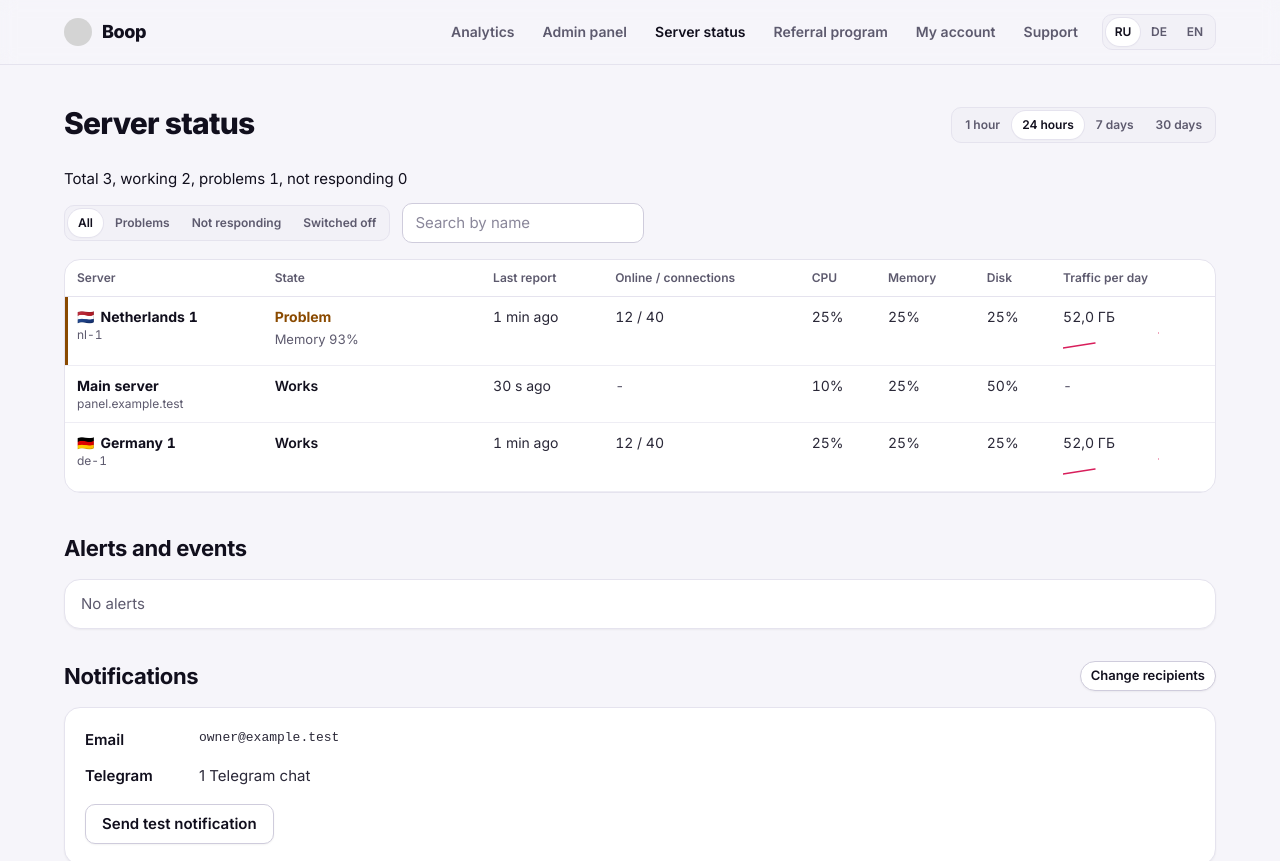
#/status › filters by state and searches by name
Click the button "Problems": x=142, y=222 [105,208,180,236]
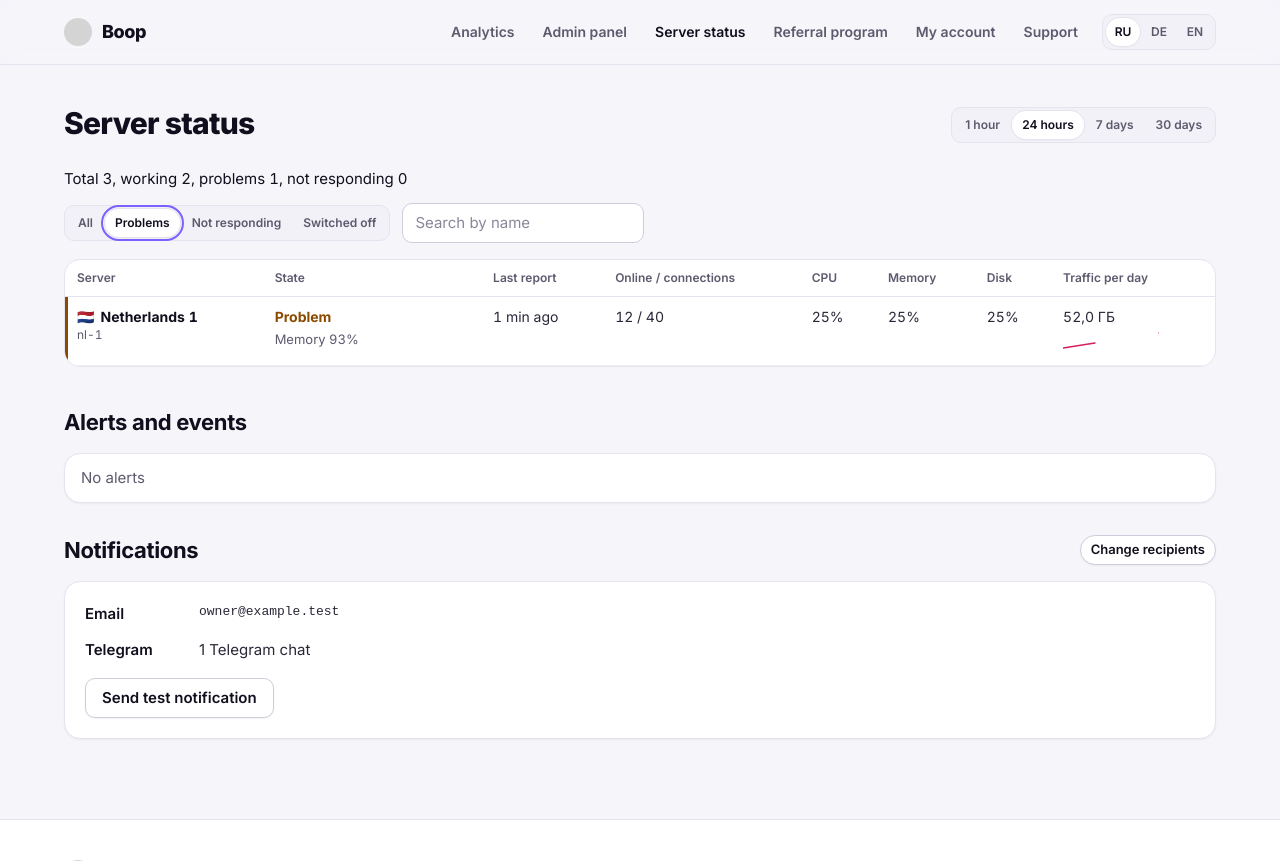
expect the number of rows is 2: met, box [65,260,1215,296]; [65,296,1215,365]
Click the button "All": x=86, y=222 [68,208,103,236]
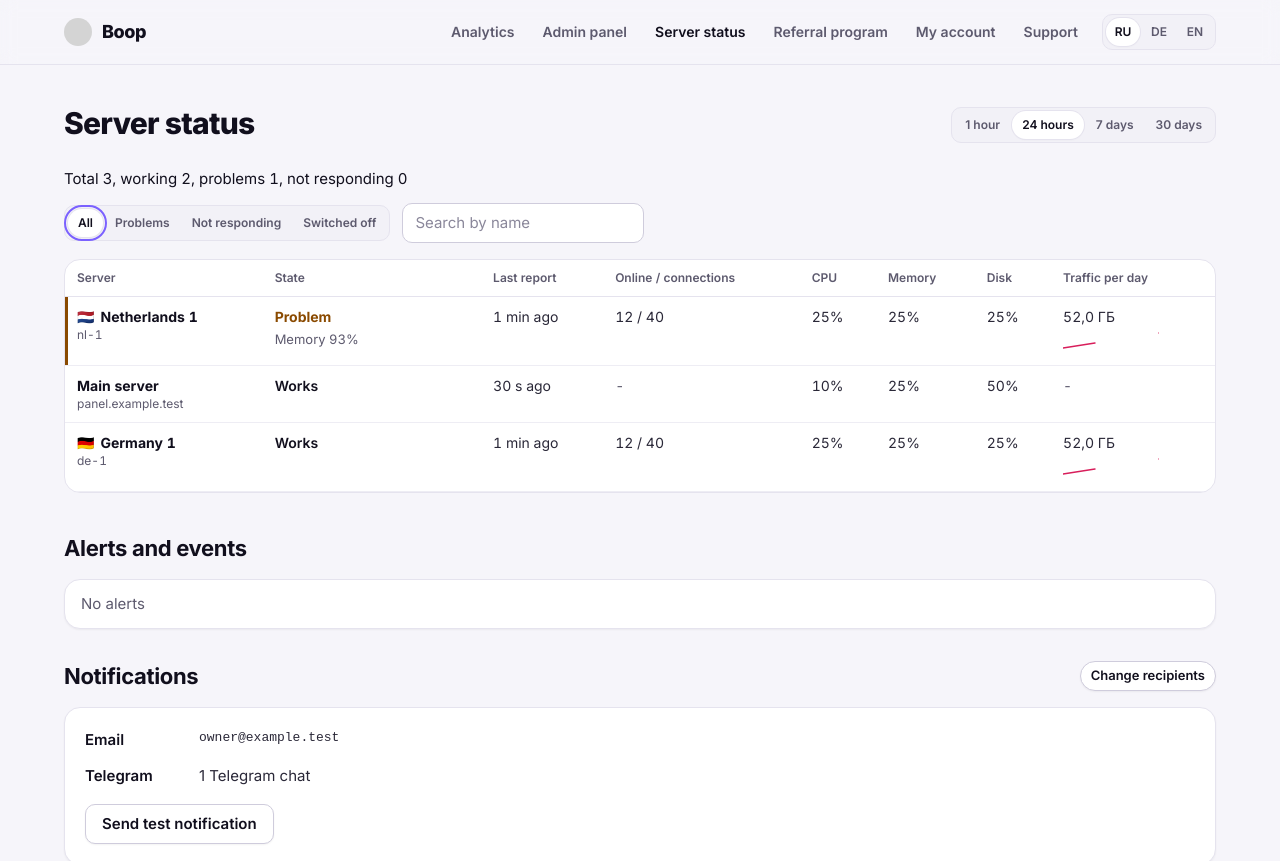
In the search field labelled "Search by name": x=523, y=222 [402,202,644,242], type "germ"
Then press Enter
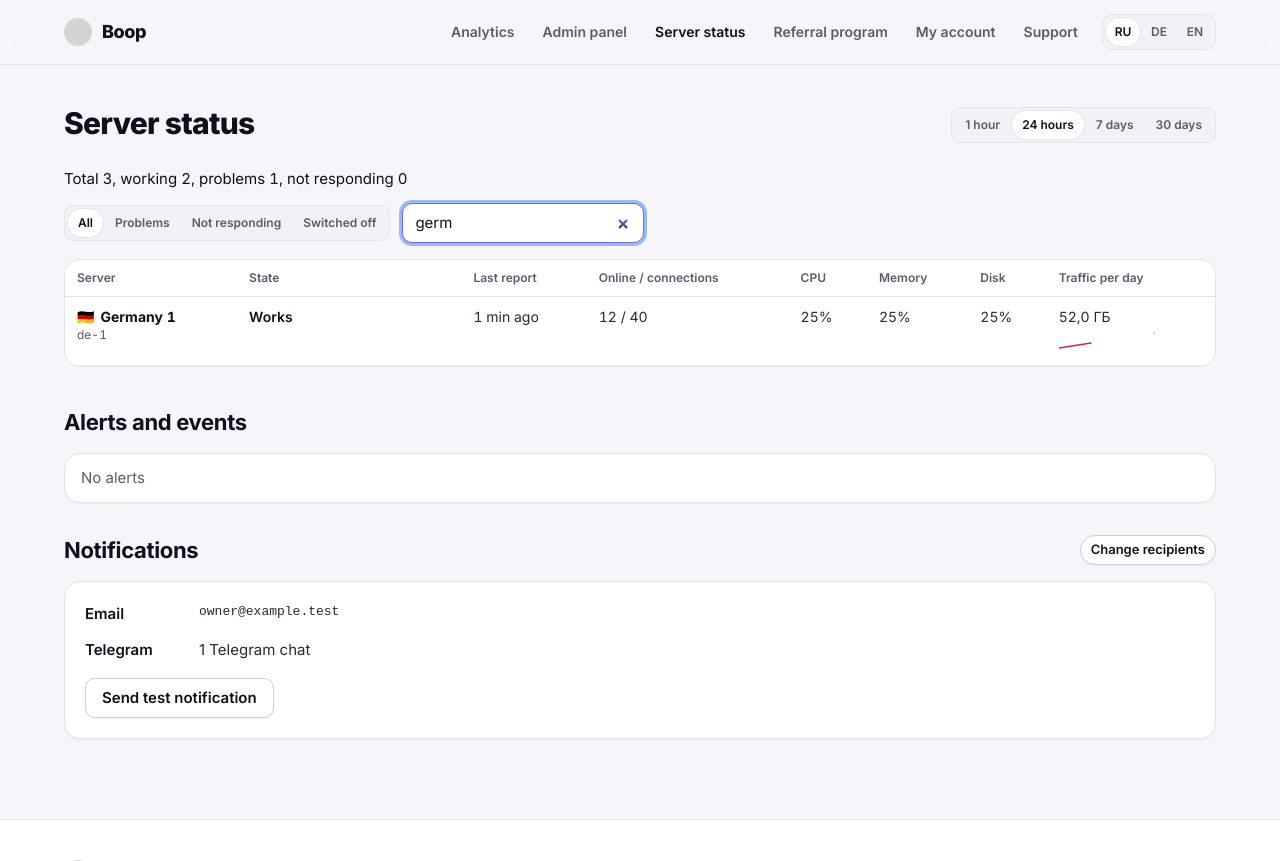
expect the number of rows is 2: met, box [65,260,1215,296]; [65,296,1215,365]
expect the text "Germany 1" is shown: met, box [100,306,176,326]
Replace the text in the search field named "Search by name" with "nothing": x=523, y=222 [402,202,644,242]
Then press Enter
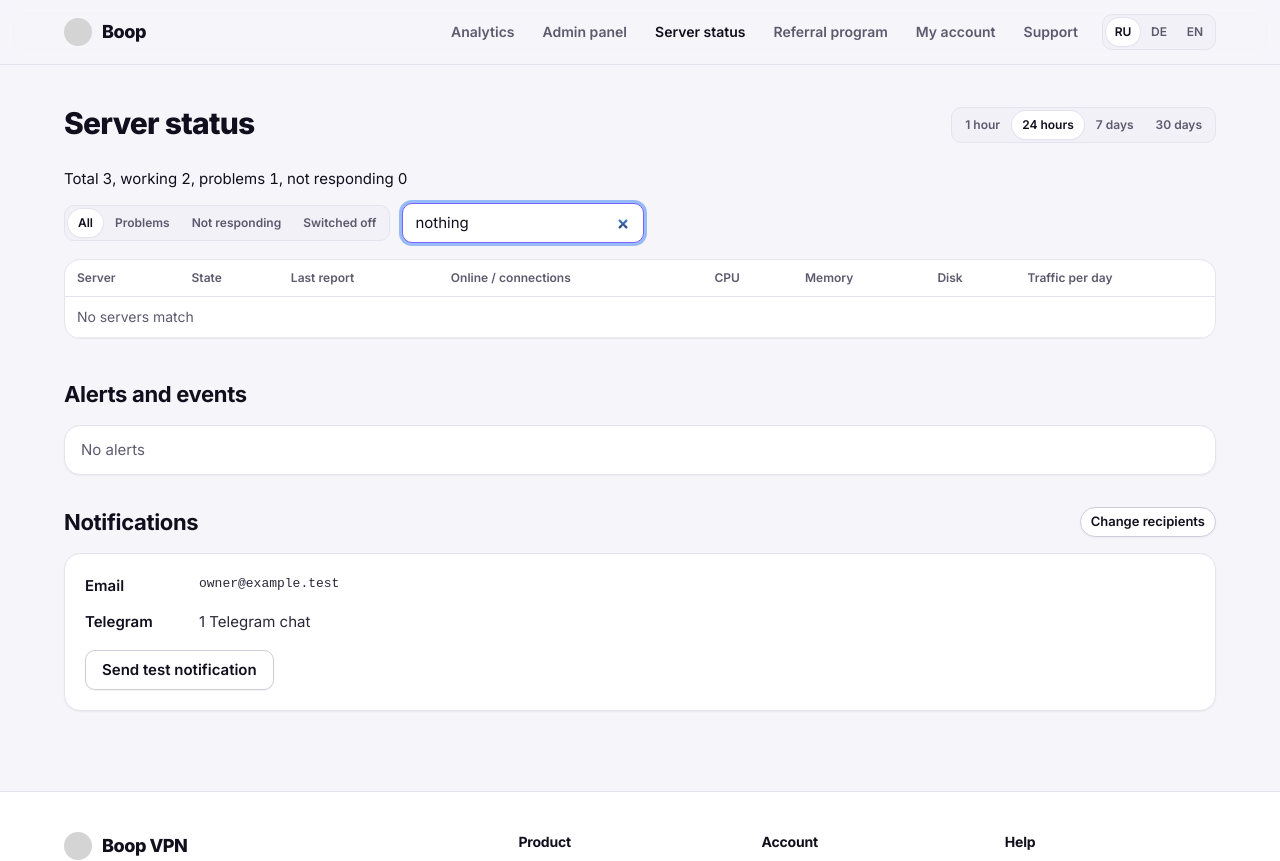
expect the text "No servers match" is shown: met, box [65,296,1215,337]
